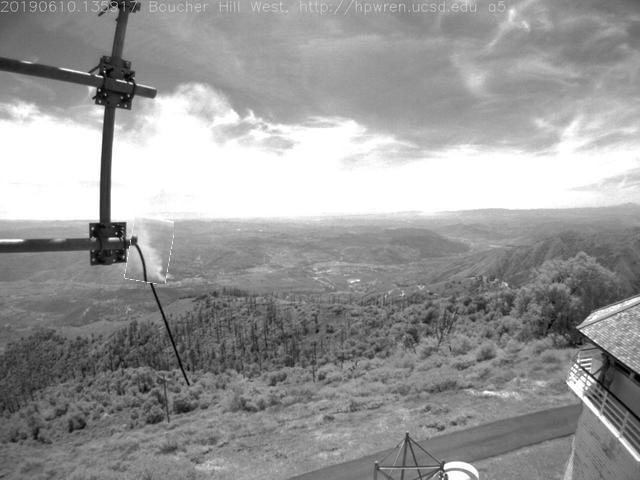smoke: (128, 218, 174, 285)
